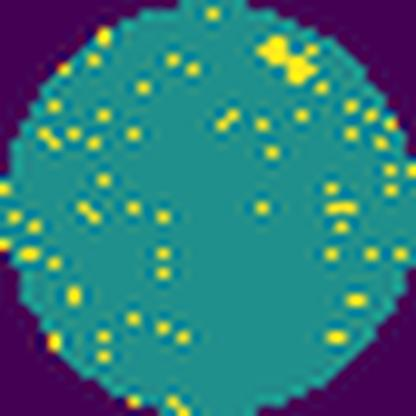Loc: (257, 32, 319, 85)
